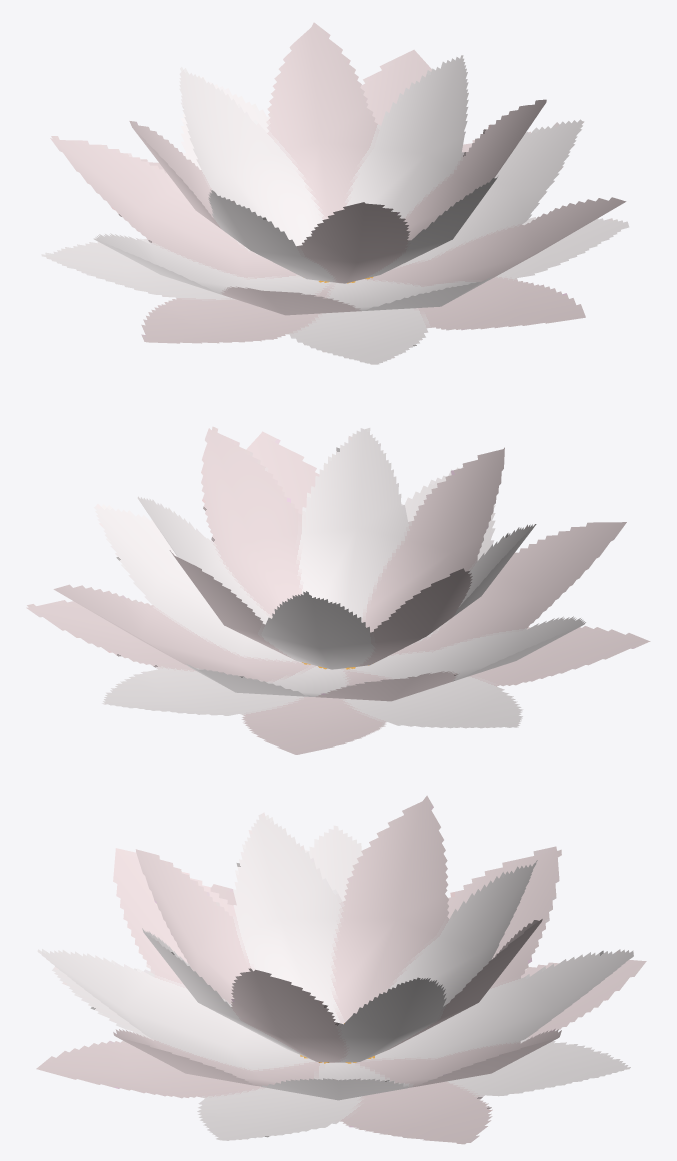
Rendered from Water_Lily_Blossom_3.gltf.
3 views of the same model, one above another, from view 1: azimuth 30°, elevation 25°; view 2: azimuth 150°, elevation 25°; view 3: azimuth 270°, elevation 25° (orthographic). The views are drawn at different scales.
Parts seen in each view (by area): view 1: Water_Lily_Blossom_3; view 2: Water_Lily_Blossom_3; view 3: Water_Lily_Blossom_3.
Boxes of the visible parts, box(x1,y1,x2,y2) form: Water_Lily_Blossom_3: box(41, 22, 629, 364); Water_Lily_Blossom_3: box(26, 426, 650, 754); Water_Lily_Blossom_3: box(36, 795, 646, 1144).
Size of the model in its own units: 20.29 by 6.49 by 20.29.
1 material, 1 textured.
